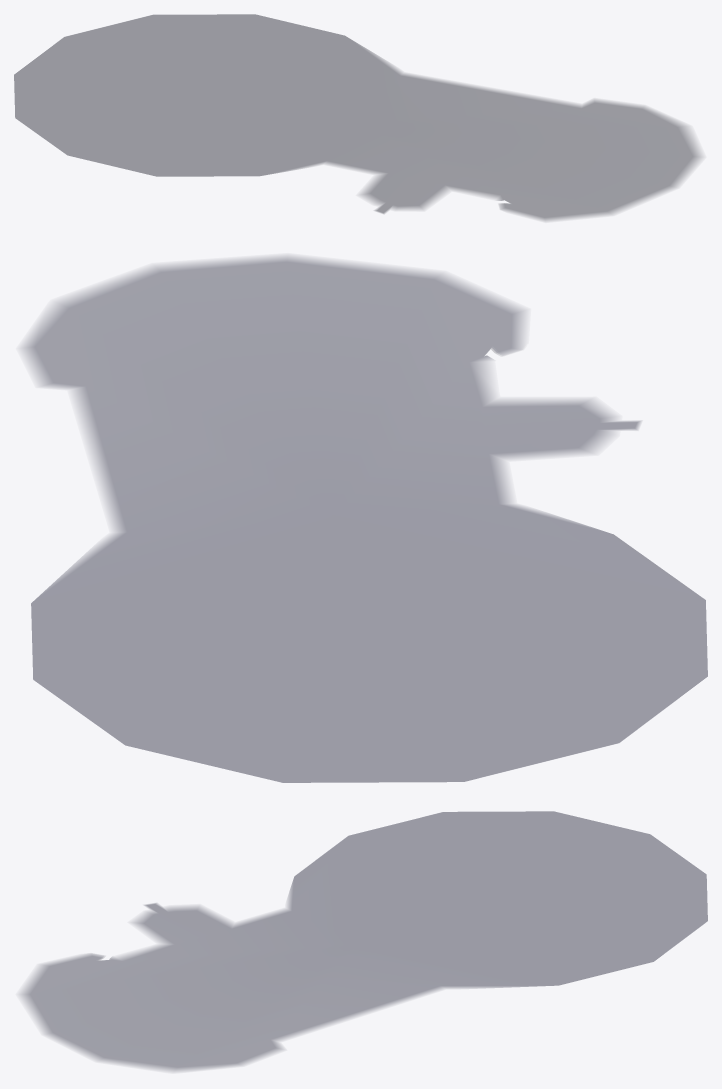
3 views of the same model, one above another, from view 1: azimuth 30°, elevation 25°; view 2: azimuth 150°, elevation 25°; view 3: azimuth 270°, elevation 25° (orthographic). The views are drawn at different scales.
Visible parts, largest first — view 1: Joint_0_Object_0; view 2: Joint_0_Object_0; view 3: Joint_0_Object_0.
Boxes of the visible parts, x1,y1,x2,y2 form: Joint_0_Object_0: (14, 14, 701, 220); Joint_0_Object_0: (22, 256, 707, 782); Joint_0_Object_0: (20, 811, 707, 1071).
Size of the model in its own units: 803 by 0 by 894.
1 material, 1 textured.
